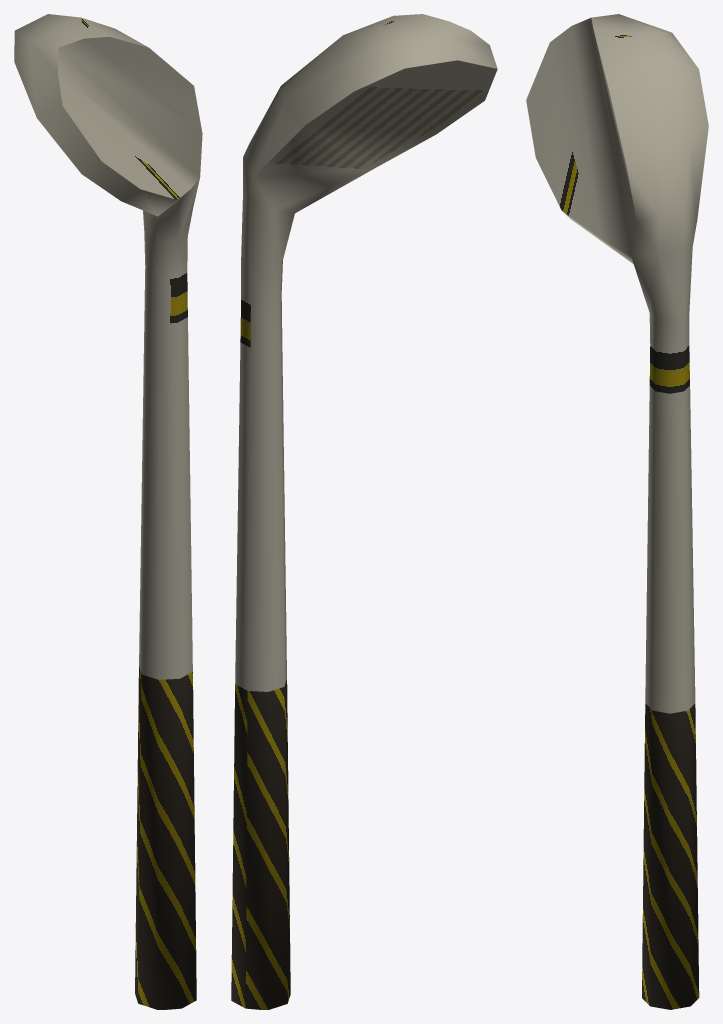
Rendered from club_gap.glb.
The picture shows the model from 3 angles, left to right: view 1: azimuth 30°, elevation 25°; view 2: azimuth 150°, elevation 25°; view 3: azimuth 270°, elevation 25°; orthographic projection. The views are drawn at different scales.
Parts seen in each view (by area): view 1: polygon1.005, polygon0.005; view 2: polygon1.005, polygon0.005; view 3: polygon1.005, polygon0.005.
Part boxes in pixels (x1,y1,x2,y2): polygon1.005: (14,14,202,679); polygon0.005: (135,666,196,1009); polygon1.005: (235,14,497,691); polygon0.005: (231,679,290,1009); polygon1.005: (526,14,708,713); polygon0.005: (642,703,699,1009).
Size of the model in its own units: 0.0164 by 0.0754 by 0.0135.
Materials: 2 (2 with a texture image).
